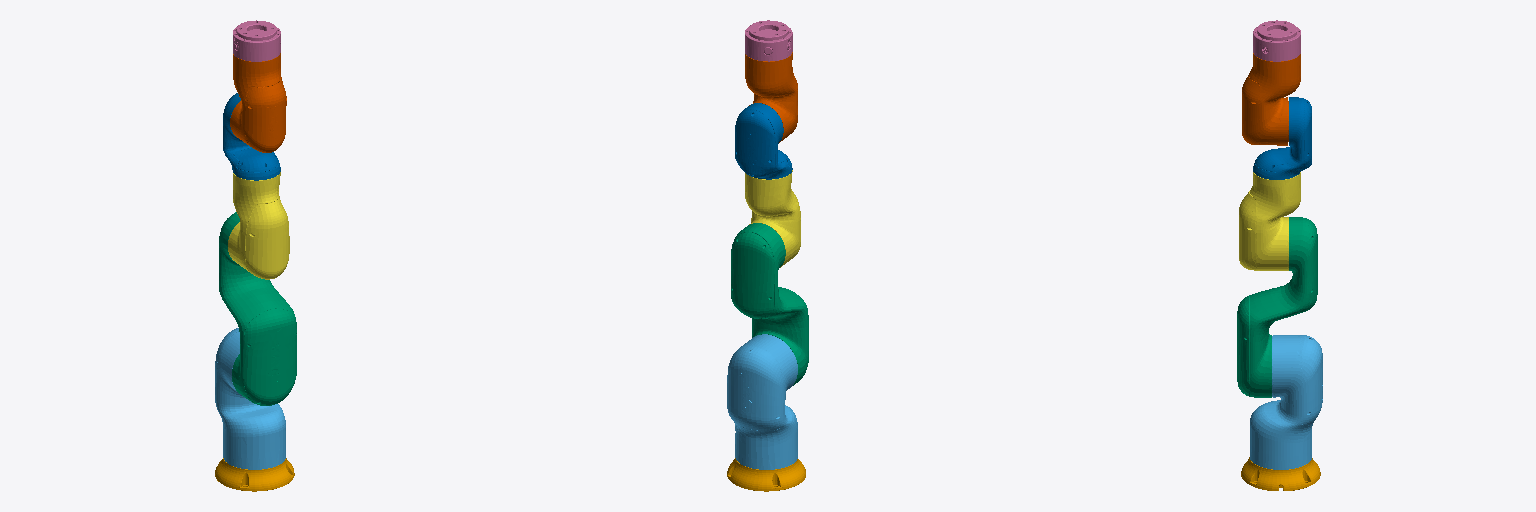
robot.urdf — jaka_leap_hand_robot:
<?xml version='1.0' encoding='UTF-8'?>
<robot name="jaka_leap_hand_robot">
  <link name="Link_0">
    <inertial>
      <origin xyz="-0.000169872459617813 -2.36448827889745e-08 0.0132846923173683" rpy="0.0 0.0 0.0"/>
      <mass value="0.76174"/>
      <inertia ixx="0.000673719313504642" ixy="-1.30755705487849e-08" ixz="-1.3262407834936e-06" iyy="0.000666781851440875" iyz="-1.80735801539484e-11" izz="0.00123663316539255"/>
    </inertial>
    <visual>
      <geometry>
        <mesh filename="meshes/jaka/Link0.STL"/>
      </geometry>
      <material name="Link_0_material"/>
      <origin xyz="0.0 0.0 0.0" rpy="0.0 0.0 0.0"/>
    </visual>
    <collision>
      <geometry>
        <mesh filename="meshes/jaka/Link0.STL"/>
      </geometry>
      <origin xyz="0.0 0.0 0.0" rpy="0.0 0.0 0.0"/>
    </collision>
  </link>
  <link name="Link_1">
    <inertial>
      <origin xyz="-1.99985037409469e-06 0.0134079971540169 -0.061631393869219" rpy="0.0 0.0 0.0"/>
      <mass value="3.1571"/>
      <inertia ixx="0.0128375469787325" ixy="2.28361925094216e-07" ixz="5.81760635898215e-08" iyy="0.0126762000445666" iyz="-0.00161037595218336" izz="0.00390574573183596"/>
    </inertial>
    <visual>
      <geometry>
        <mesh filename="meshes/jaka/Link1.STL"/>
      </geometry>
      <material name="Link_1_material"/>
      <origin xyz="0.0 0.0 0.0" rpy="0.0 0.0 0.0"/>
    </visual>
    <collision>
      <geometry>
        <mesh filename="meshes/jaka/Link1.STL"/>
      </geometry>
      <origin xyz="0.0 0.0 0.0" rpy="0.0 0.0 0.0"/>
    </collision>
  </link>
  <link name="Link_2">
    <inertial>
      <origin xyz="0.090613 -1.3771e-06 0.0043964" rpy="0.0 0.0 0.0"/>
      <mass value="1.0141"/>
      <inertia ixx="0.0019174" ixy="6.2208e-07" ixz="0.0022687" iyy="0.0073149" iyz="-3.3214e-07" izz="0.0064681"/>
    </inertial>
    <visual>forearm_index
      <geometry>
        <mesh filename="meshes/jaka/Link2.STL"/>
      </geometry>
      <material name="Link_2_material"/>
      <origin xyz="0.0 0.0 0.0" rpy="0.0 0.0 0.0"/>
    </visual>
    <collision>
      <geometry>
        <mesh filename="meshes/jaka/Link2.STL"/>
      </geometry>
      <origin xyz="0.0 0.0 0.0" rpy="0.0 0.0 0.0"/>
    </collision>
  </link>
  <link name="Link_3">
    <inertial>
      <origin xyz="-2.836e-07 0.042086 0.012428" rpy="0.0 0.0 0.0"/>
      <mass value="2.018"/>
      <inertia ixx="0.0055107" ixy="2.2287e-08" ixz="-3.4784e-08" iyy="0.0017496" iyz="0.0005528" izz="0.0052708"/>
    </inertial>
    <visual>
      <geometry>
        <mesh filename="meshes/jaka/Link3.STL"/>
      </geometry>
      <material name="Link_3_material"/>
      <origin xyz="0.0 0.0 0.0" rpy="0.0 0.0 0.0"/>
    </visual>
    <collision>
      <geometry>
        <mesh filename="meshes/jaka/Link3.STL"/>
      </geometry>
      <origin xyz="0.0 0.0 0.0" rpy="0.0 0.0 0.0"/>
    </collision>
  </link>
  <link name="Link_4">
    <inertial>
      <origin xyz="-5.23366787087349e-06 0.025945911865393 -0.0349284126752025" rpy="0.0 0.0 0.0"/>
      <mass value="0.412340000009804"/>
      <inertia ixx="0.000648308078586465" ixy="2.01279577389176e-08" ixz="-2.91846428270101e-08" iyy="0.000622438484108618" iyz="-0.000147788635079694" izz="0.000313549566736677"/>
    </inertial>
    <visual>
      <geometry>
        <mesh filename="meshes/jaka/Link4.STL"/>
      </geometry>
      <material name="Link_4_material"/>
      <origin xyz="0.0 0.0 0.0" rpy="0.0 0.0 0.0"/>
    </visual>
    <collision>
      <geometry>
        <mesh filename="meshes/jaka/Link4.STL"/>
      </geometry>
      <origin xyz="0.0 0.0 0.0" rpy="0.0 0.0 0.0"/>
    </collision>
  </link>
  <link name="Link_5">
    <inertial>
      <origin xyz="8.7254e-06 0.044553 0.010268" rpy="0.0 0.0 0.0"/>
      <mass value="1.6793"/>
      <inertia ixx="0.0040718" ixy="4.0506e-07" ixz="1.0998e-07" iyy="0.0013014" iyz="0.00040116" izz="0.0039042"/>
    </inertial>
    <visual>
      <geometry>
        <mesh filename="meshes/jaka/Link5.STL"/>
      </geometry>
      <material name="Link_5_material"/>
      <origin xyz="0.0 0.0 0.0" rpy="0.0 0.0 0.0"/>
    </visual>
    <collision>
      <geometry>
        <mesh filename="meshes/jaka/Link5.STL"/>
      </geometry>
      <origin xyz="0.0 0.0 0.0" rpy="0.0 0.0 0.0"/>
    </collision>
  </link>
  <link name="Link_6">
    <inertial>
      <origin xyz="-2.33954680956047e-05 3.42676856690269e-05 -0.0202928698270544" rpy="0.0 0.0 0.0"/>
      <mass value="0.311970001247665"/>
      <inertia ixx="0.00014377819366" ixy="-8.50913479195225e-07" ixz="-2.37501745813128e-07" iyy="0.000142682702873271" iyz="-3.26920852568197e-08" izz="0.000221812602025683"/>
    </inertial>
    <visual>
      <geometry>
        <mesh filename="meshes/jaka/Link6.STL"/>
      </geometry>
      <material name="Link_6_material"/>
      <origin xyz="0.0 0.0 0.0" rpy="0.0 0.0 0.0"/>
    </visual>
    <collision>
      <geometry>
        <mesh filename="meshes/jaka/Link6.STL"/>
      </geometry>
      <origin xyz="0.0 0.0 0.0" rpy="0.0 0.0 0.0"/>
    </collision>
  </link>

  <joint name="joint_1" type="revolute">
    <limit effort="100.0" velocity="1.57" lower="-6.28" upper="6.28"/>
    <parent link="Link_0"/>
    <child link="Link_1"/>
    <axis xyz="0. 0. 1."/>
    <origin xyz="0.0 0.0 0.187" rpy="0.0 0.0 0.0"/>
  </joint>
  <joint name="joint_2" type="revolute">
    <limit effort="100.0" velocity="1.57" lower="-2.09" upper="2.09"/>
    <parent link="Link_1"/>
    <child link="Link_2"/>
    <axis xyz="0. 0. 1."/>
    <origin xyz="0.0 -0.006 0.0" rpy="-1.5707926535897934 -1.5707926535755432 -3.141592653589793"/>
  </joint>
  <joint name="joint_3" type="revolute">
    <limit effort="100.0" velocity="1.57" lower="-2.27" upper="2.27"/>
    <parent link="Link_2"/>
    <child link="Link_3"/>
    <axis xyz="0. 0. 1."/>
    <origin xyz="0.21 0.0 0.0" rpy="0.0 0.0 -1.5708"/>
  </joint>
  <joint name="joint_4" type="revolute">
    <limit effort="100.0" velocity="1.57" lower="-6.28" upper="6.28"/>
    <parent link="Link_3"/>
    <child link="Link_4"/>
    <axis xyz="0. 0. 1."/>
    <origin xyz="0.0 0.2105 0.0" rpy="-1.5708 0.0 0.0"/>
  </joint>
  <joint name="joint_5" type="revolute">
    <limit effort="100.0" velocity="1.57" lower="-2.09" upper="2.09"/>
    <parent link="Link_4"/>
    <child link="Link_5"/>
    <axis xyz="0. 0. 1."/>
    <origin xyz="0.0 0.0 0.0" rpy="1.5708 0.0 0.0"/>
  </joint>
  <joint name="joint_6" type="revolute">
    <limit effort="100.0" velocity="1.57" lower="-6.28" upper="6.28"/>
    <parent link="Link_5"/>
    <child link="Link_6"/>
    <axis xyz="0. 0. 1."/>
    <origin xyz="0.0 0.1593 0.0" rpy="-1.5708 0.0 0.0"/>
  </joint>
</robot>

--- Render facts (derived) ---
3 views of the same robot in one strip: view 1: azimuth 30°, elevation 25°; view 2: azimuth 150°, elevation 25°; view 3: azimuth 270°, elevation 25° (orthographic).
Model jaka_leap_hand_robot with 7 links and 6 joints (6 revolute), rooted at Link_0, posed all joints at 0.
Visible links, largest first — view 1: Link_2, Link_1, Link_3, Link_5, Link_4, Link_6, Link_0; view 2: Link_1, Link_2, Link_4, Link_3, Link_5, Link_6, Link_0; view 3: Link_1, Link_2, Link_3, Link_5, Link_4, Link_6, Link_0.
Boxes of the visible links, x1,y1,x2,y2 form: Link_2: (219, 212, 296, 405); Link_1: (215, 328, 285, 469); Link_3: (228, 172, 289, 279); Link_5: (230, 53, 286, 152); Link_4: (223, 93, 280, 180); Link_6: (233, 20, 280, 61); Link_0: (215, 458, 294, 491); Link_1: (727, 334, 797, 469); Link_2: (731, 223, 808, 385); Link_4: (735, 103, 792, 179); Link_3: (745, 170, 800, 267); Link_5: (745, 52, 797, 142); Link_6: (745, 20, 792, 61); Link_0: (727, 458, 805, 491); Link_1: (1250, 335, 1322, 469); Link_2: (1237, 217, 1317, 397); Link_3: (1239, 172, 1300, 270); Link_5: (1242, 53, 1300, 145); Link_4: (1253, 97, 1311, 179); Link_6: (1253, 20, 1300, 61); Link_0: (1241, 457, 1320, 490).
Bounding box of the posed robot: 0.1238 × 0.133 × 0.7668 m (x, y, z).
7 mesh visuals loaded from 7 distinct referenced files (7 binary STL).
